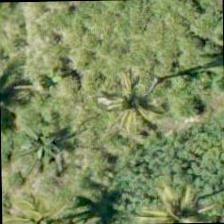Kelapa_Sawit: (71, 62, 163, 154), (135, 170, 223, 224), (1, 171, 87, 223)
